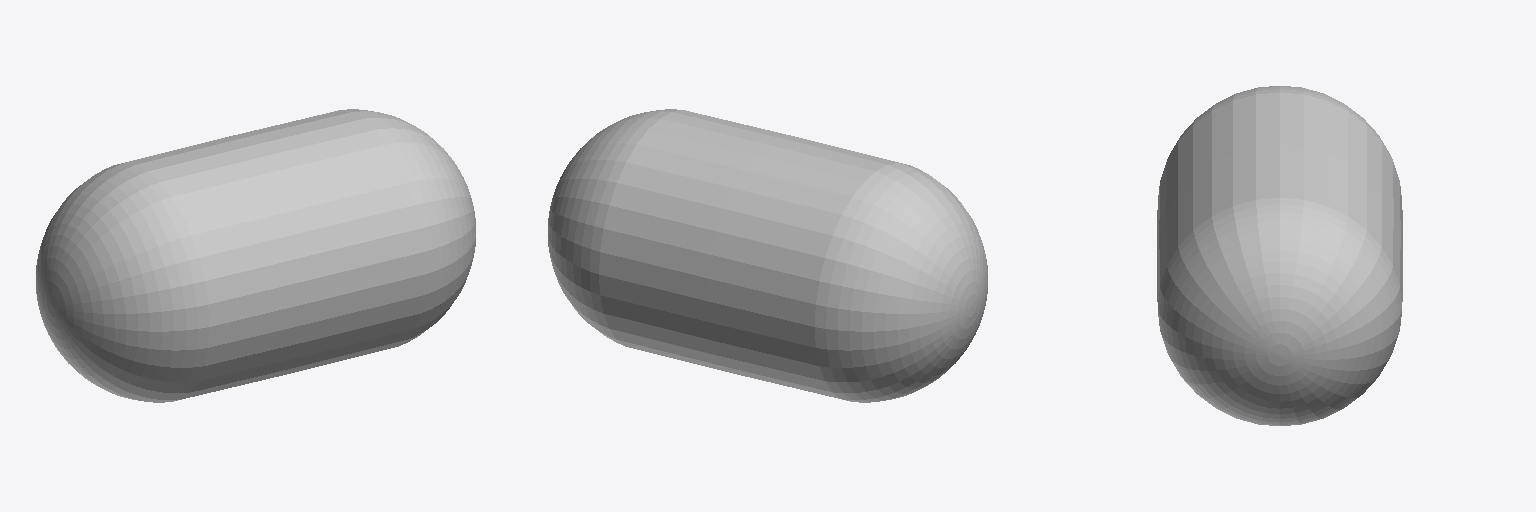
The model's file is capsuleX.obj.
The picture shows the model from 3 angles: view 1: azimuth 30°, elevation 25°; view 2: azimuth 150°, elevation 25°; view 3: azimuth 270°, elevation 25°; orthographic projection.
Size of the model in its own units: 3.83 by 2 by 2.